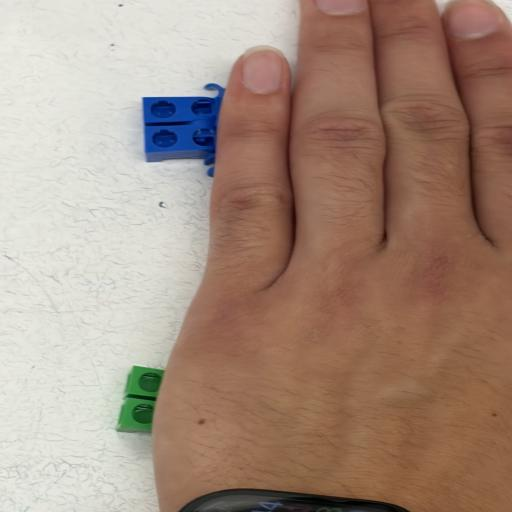Blue-Lego: (142, 84, 225, 165)
Green-Lego: (115, 365, 164, 434)
